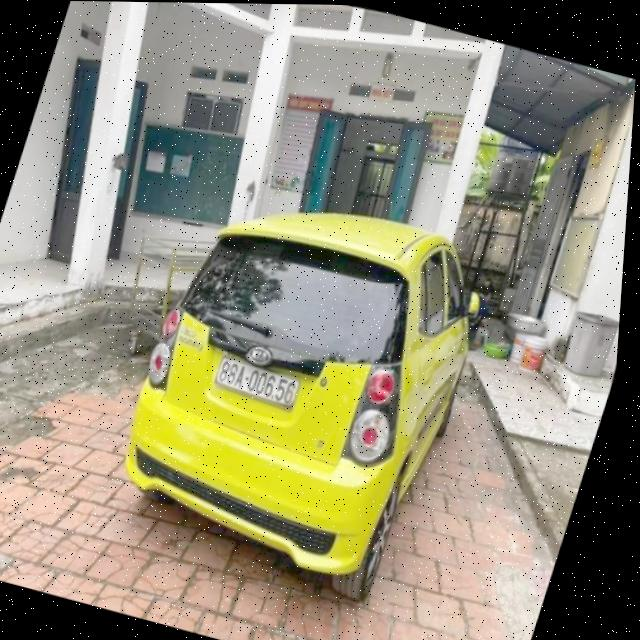car: (85, 170, 517, 615)
plate: (204, 350, 309, 415)
